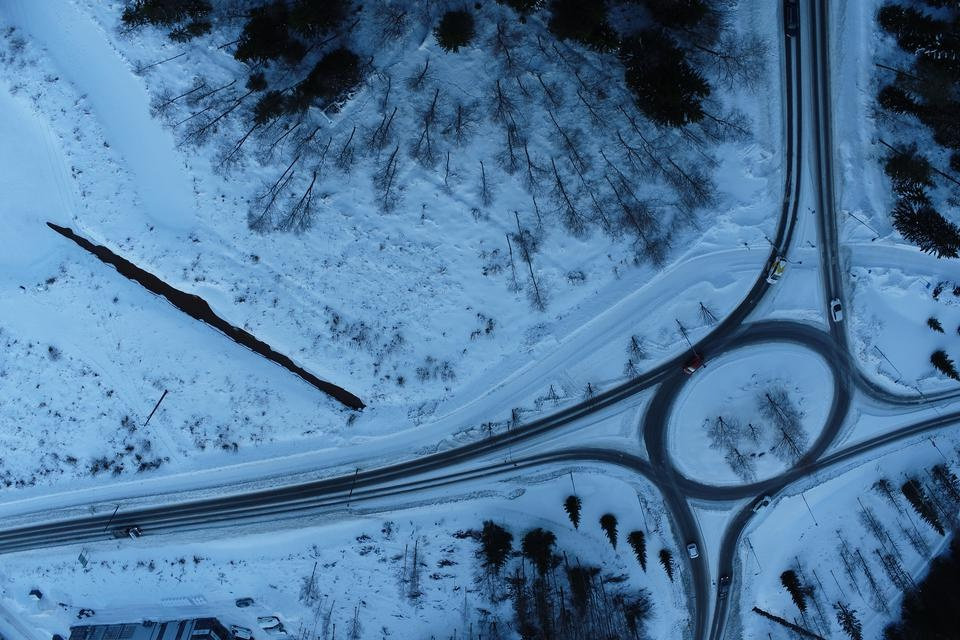roundabout: (607, 290, 886, 528)
